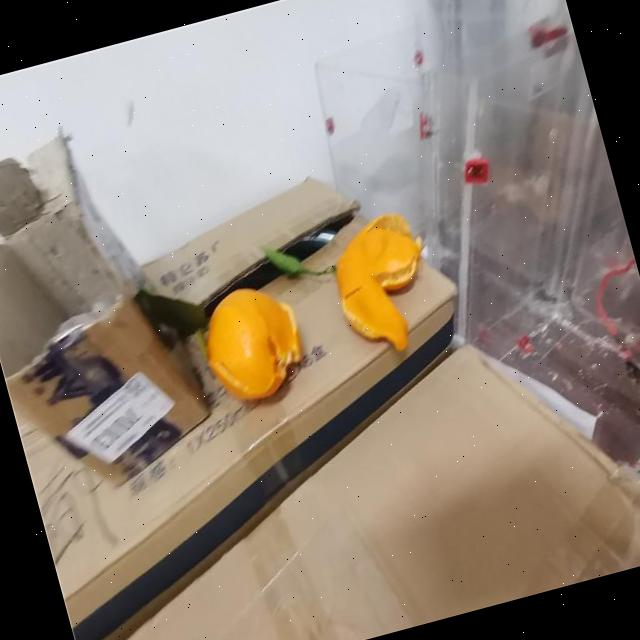orange-peel: (318, 204, 446, 364), (190, 275, 314, 410)
